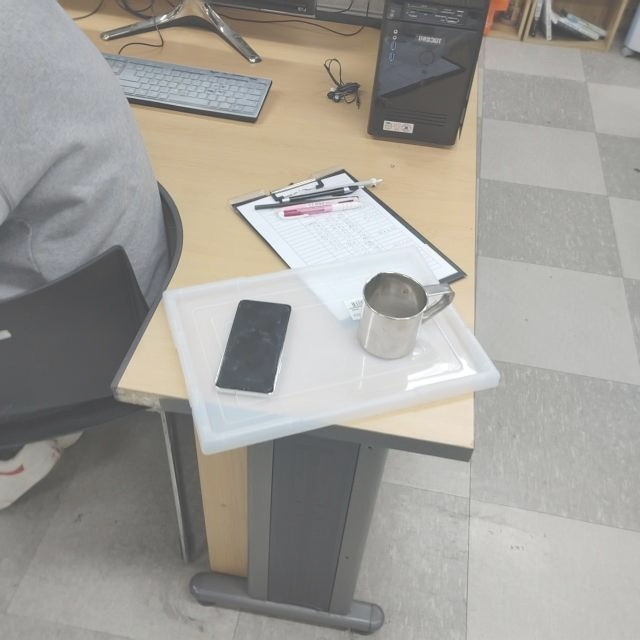cup: (358, 271, 454, 359)
phone: (215, 300, 293, 396)
